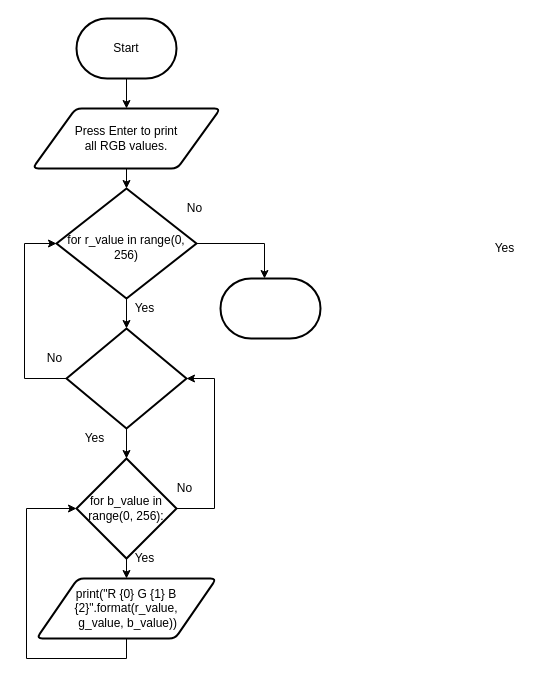
This 542x684 diagram has some shape labels left out. Here are the shapes that lost their labels. From the top down, the centre of each, then its label:
(270,308): Stop
(126,378): for g_value in range(0, 256):
